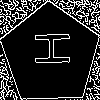H: (26, 30, 71, 68)
